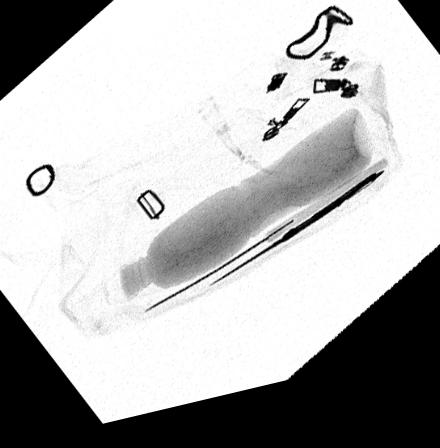Knife: (142, 174, 390, 320), (208, 186, 386, 295)
